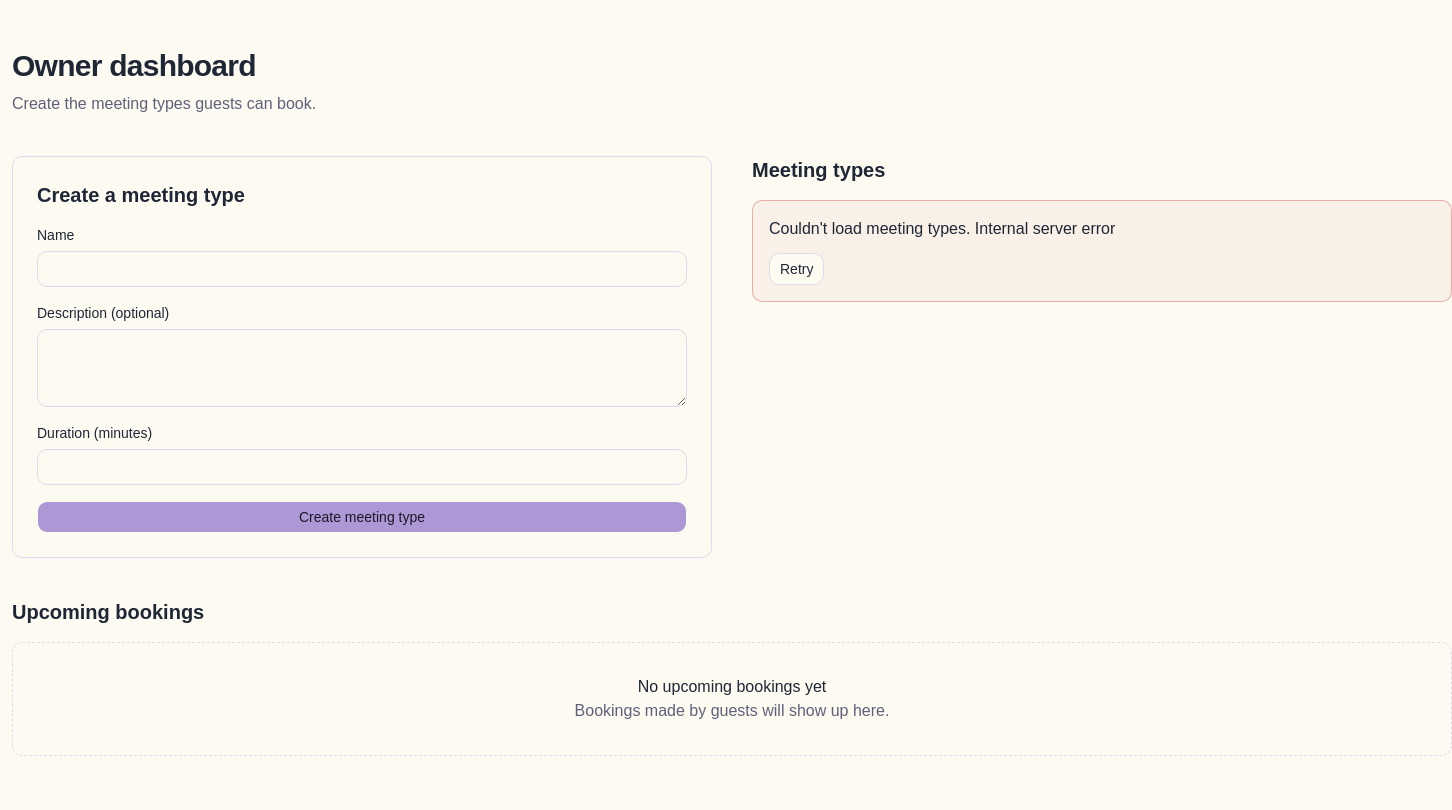
OwnerDashboardPage › shows a load error and retries loading the list
Expected: the message shows "Couldn't load meeting types.", left=769, top=220, right=1115, bottom=237
Step 1. Click the button "Retry" → click(797, 269), box left=769, top=253, right=824, bottom=285
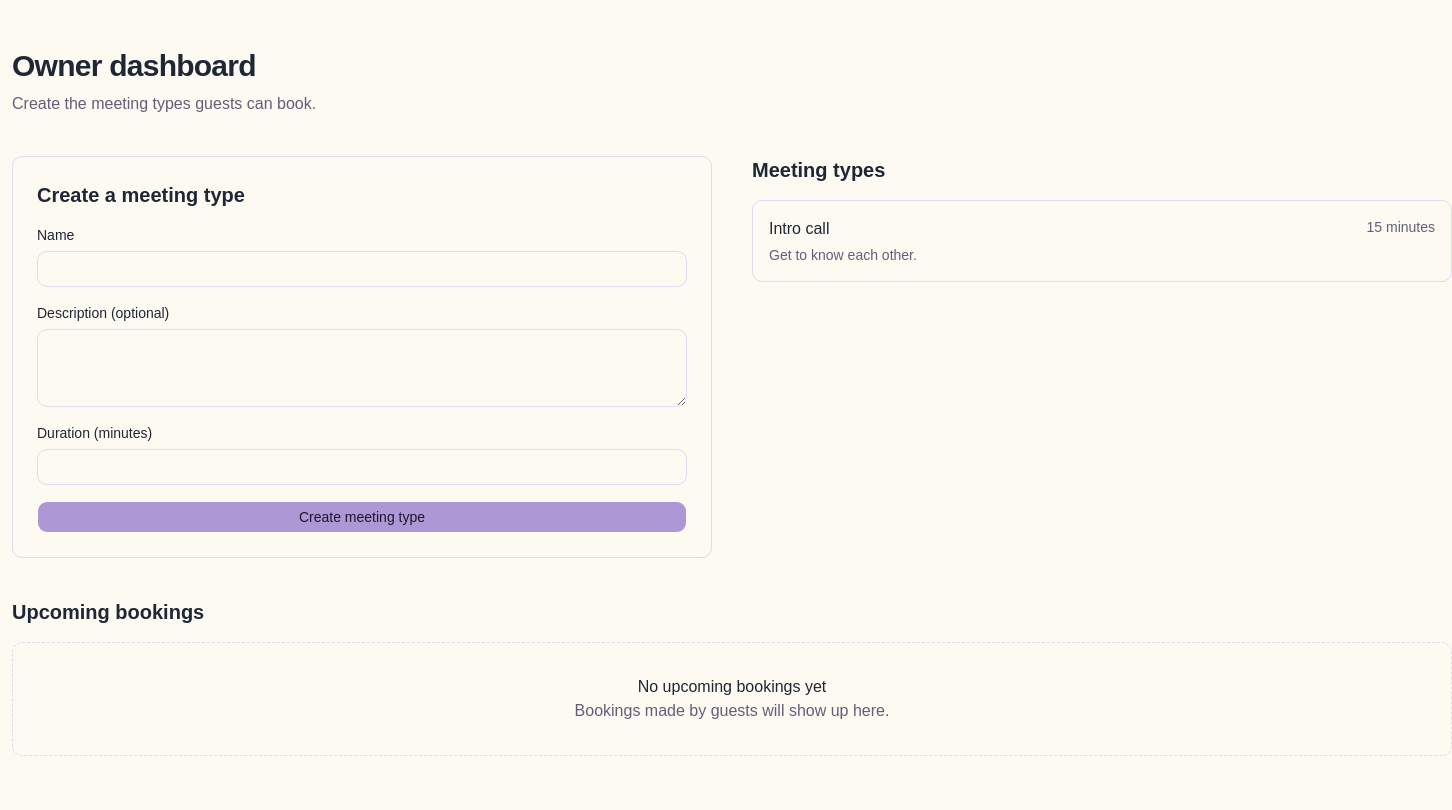
Now the heading "Intro call" is shown, box left=769, top=217, right=830, bottom=241
